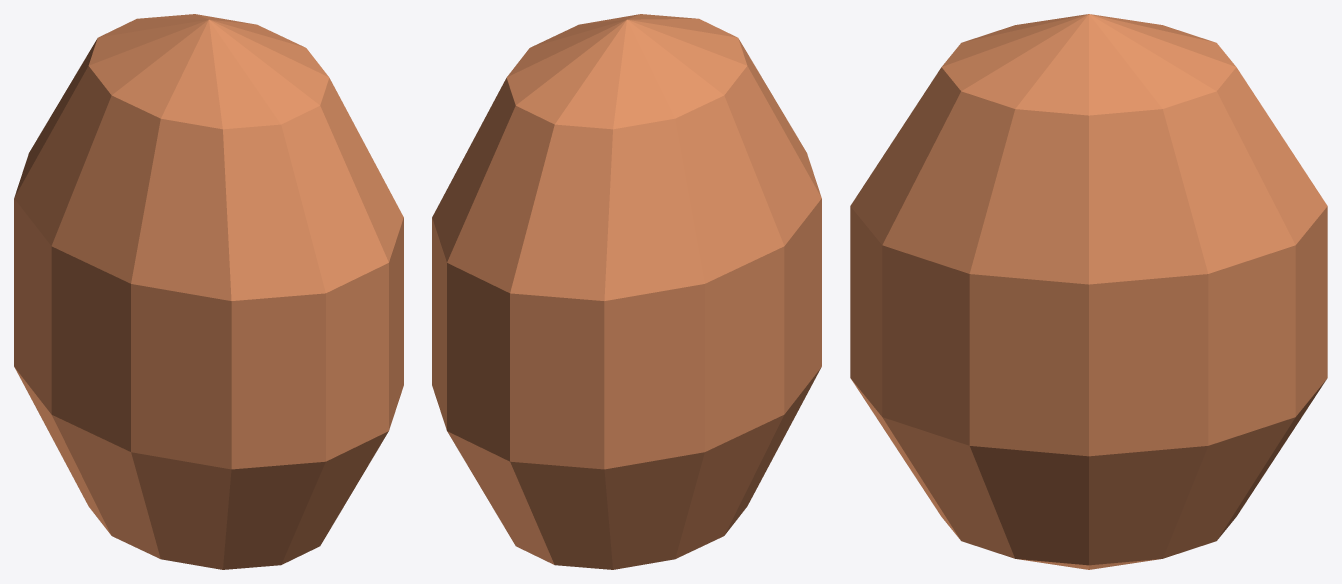
Rendered from Nose.obj.
3 views of the same model, side by side, from view 1: azimuth 30°, elevation 25°; view 2: azimuth 150°, elevation 25°; view 3: azimuth 270°, elevation 25° (orthographic). The views are drawn at different scales.
Parts seen in each view (by area): view 1: Nose; view 2: Nose; view 3: Nose.
Boxes of the visible parts, x1=… form: Nose: x1=14, y1=14, x2=403, y2=569; Nose: x1=432, y1=14, x2=821, y2=569; Nose: x1=850, y1=14, x2=1327, y2=569.
Bounding box in the file's own units: 0.0666 × 0.11 × 0.0856.
